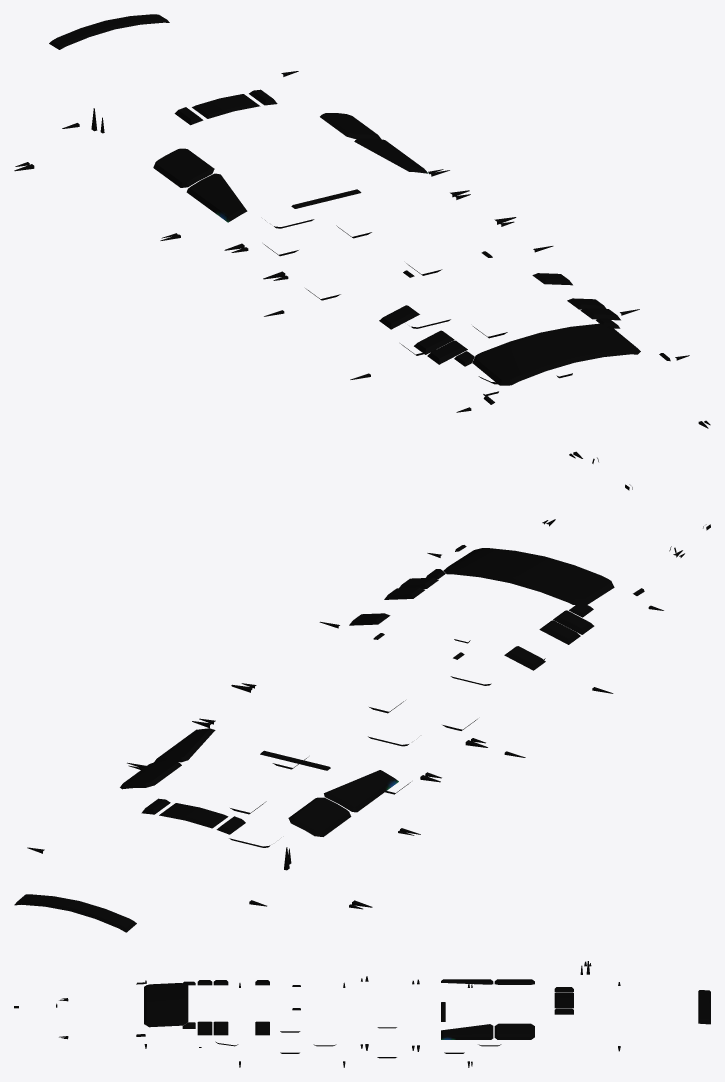
File: hgn_freighter_02.glb
3 renders of one model, top to bottom at view 1: azimuth 30°, elevation 25°; view 2: azimuth 150°, elevation 25°; view 3: azimuth 270°, elevation 25°, orthographic. The views are drawn at different scales.
Visible parts, largest first — view 1: hgn_freighter_02_LOD0; view 2: hgn_freighter_02_LOD0; view 3: hgn_freighter_02_LOD0.
Part boxes in pixels (bbox=[...]): hgn_freighter_02_LOD0: bbox=[14, 14, 710, 490]; hgn_freighter_02_LOD0: bbox=[14, 519, 710, 932]; hgn_freighter_02_LOD0: bbox=[14, 961, 710, 1067].
Size of what is drawn, in the model's own units: 4.91 by 1.09 by 14.53.
1 material, 1 textured.
